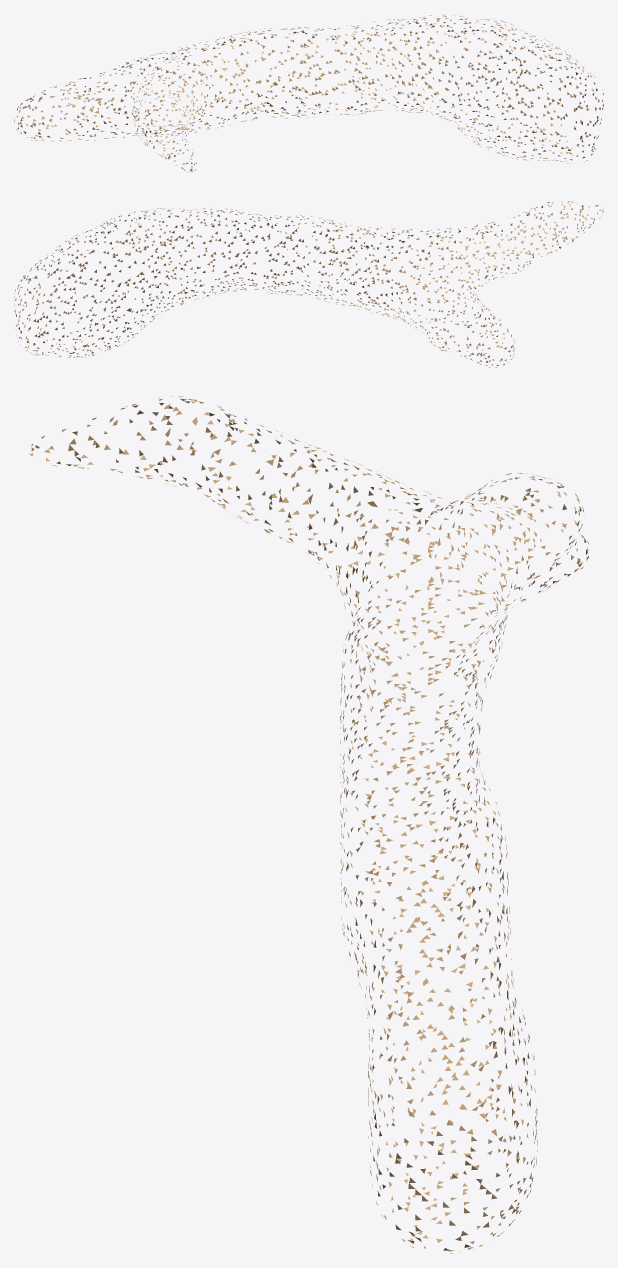
The model's file is morph_006.glb.
3 renders of one model, top to bottom at view 1: azimuth 30°, elevation 25°; view 2: azimuth 150°, elevation 25°; view 3: azimuth 270°, elevation 25°, orthographic. The views are drawn at different scales.
Bounding box in the file's own units: 124 × 48.72 × 59.08.
